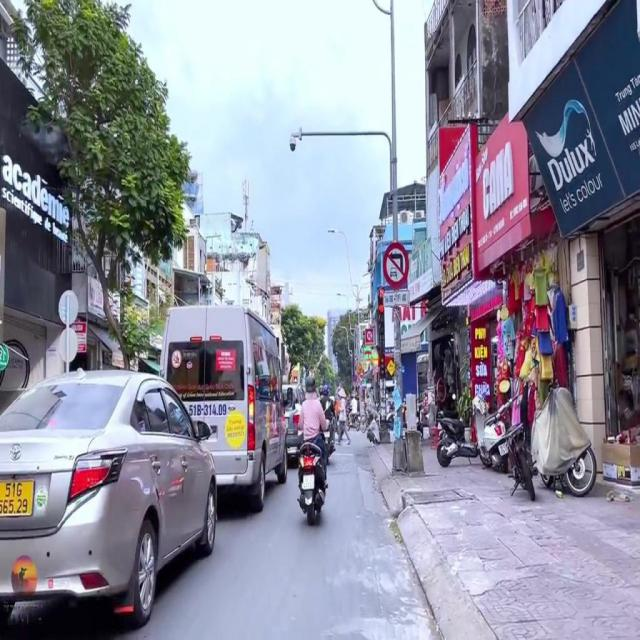cam_o_to_re_trai: (384, 242, 408, 289)
khac: (384, 290, 410, 308)
